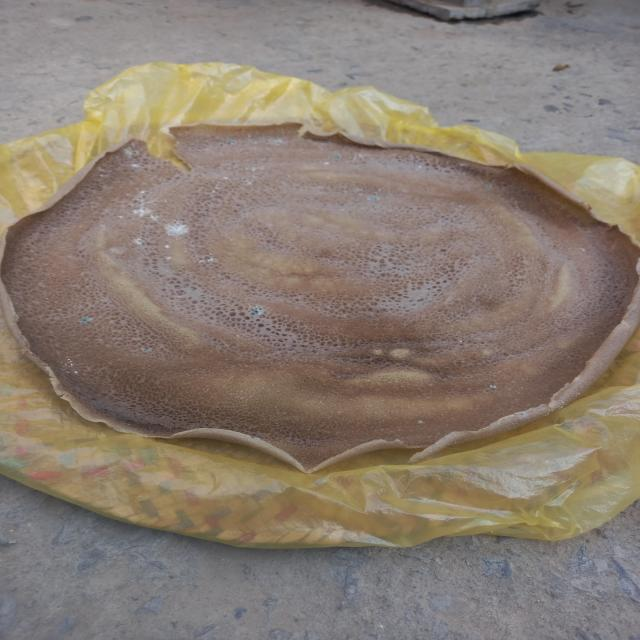injera_mold: (126, 190, 160, 221), (163, 218, 190, 237), (58, 356, 78, 376), (121, 143, 142, 160), (193, 254, 220, 266), (96, 163, 113, 178), (265, 135, 283, 147), (250, 307, 264, 318), (80, 315, 92, 325), (246, 166, 264, 172), (141, 346, 154, 354), (210, 186, 222, 194), (332, 152, 343, 160), (241, 178, 253, 185), (133, 238, 143, 245), (485, 183, 494, 190), (368, 196, 380, 201), (130, 162, 140, 168), (225, 140, 237, 145), (579, 247, 586, 254), (490, 384, 498, 390), (418, 419, 424, 425), (118, 214, 124, 220), (354, 193, 362, 197), (166, 256, 172, 261), (222, 176, 228, 180), (165, 244, 170, 248), (219, 143, 224, 147)
